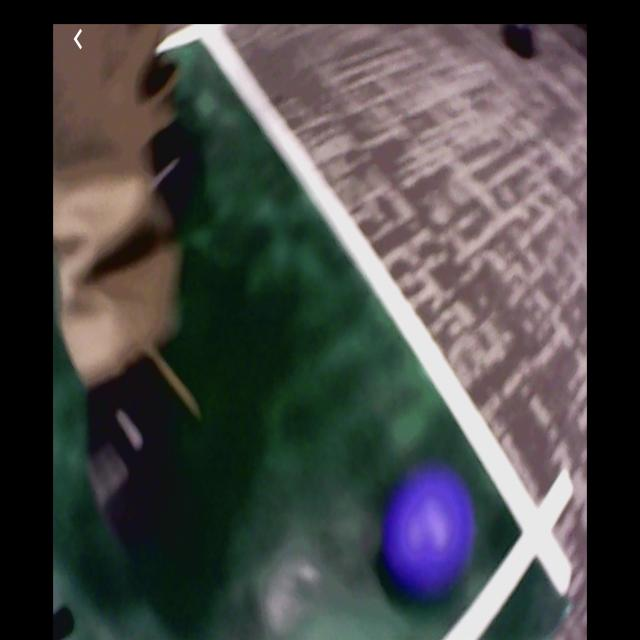ball: (385, 466, 467, 592)
